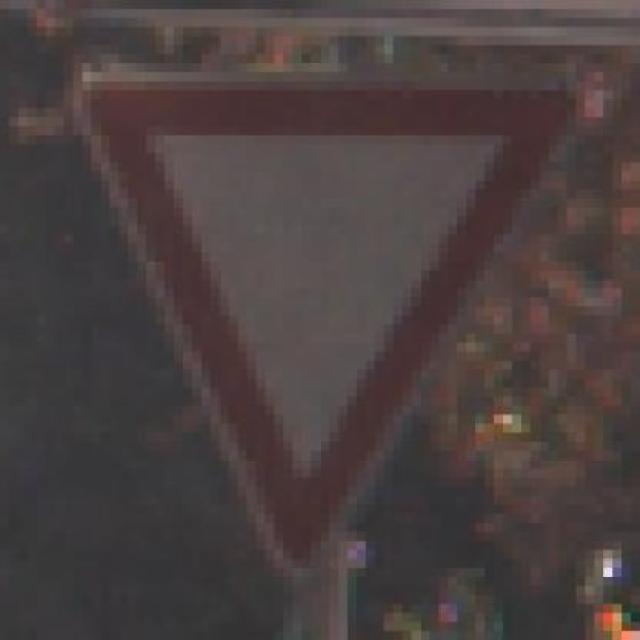Give Way: (36, 63, 613, 577)
